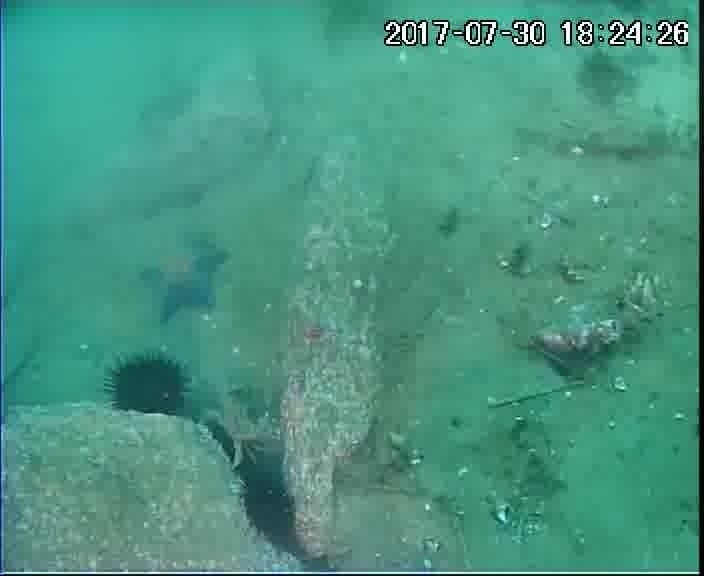echinus: (103, 350, 192, 422), (233, 463, 303, 548), (571, 49, 638, 110)
starfish: (135, 232, 231, 326)
